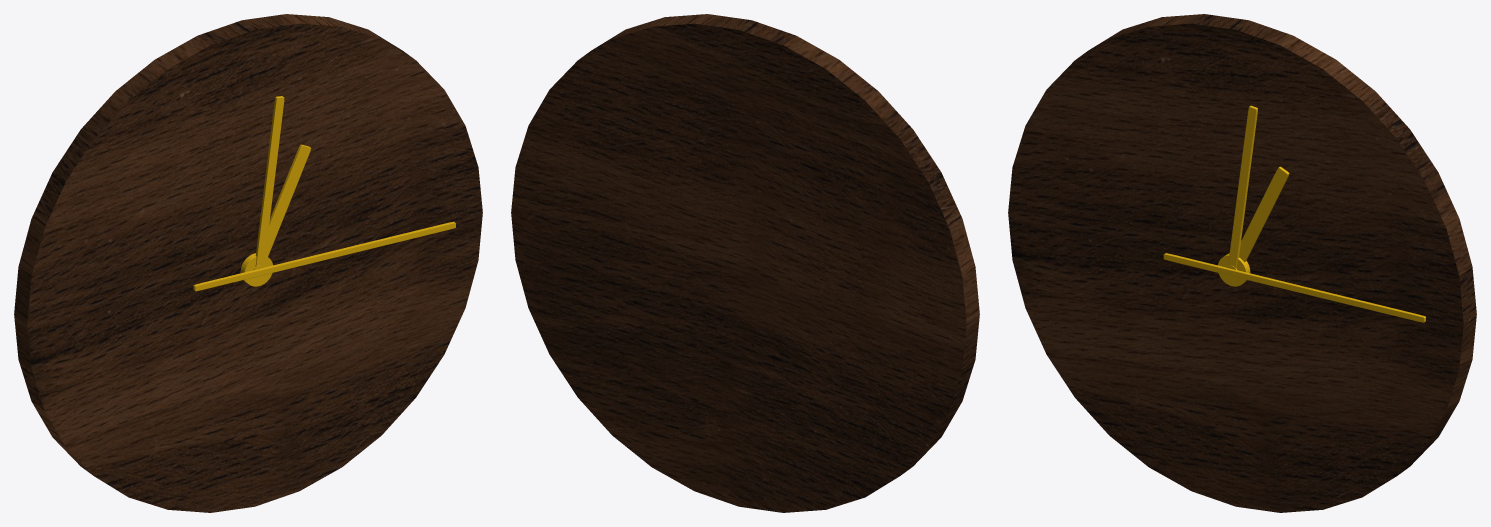
File: uploads_files_3168234_ClockV1.glb
3 renders of one model, left to right at view 1: azimuth 30°, elevation 25°; view 2: azimuth 150°, elevation 25°; view 3: azimuth 330°, elevation 25°, orthographic.
Visible parts, largest first — view 1: Circle034, Plane093, Plane095, Plane094; view 2: Circle034; view 3: Circle034, Plane093, Plane095, Plane094.
Part boxes in pixels (bbox=[...]): Circle034: bbox=[14, 14, 482, 512]; Plane093: bbox=[193, 221, 455, 291]; Plane095: bbox=[255, 96, 284, 266]; Plane094: bbox=[265, 144, 311, 256]; Circle034: bbox=[511, 14, 979, 512]; Circle034: bbox=[1008, 14, 1476, 512]; Plane093: bbox=[1163, 253, 1425, 322]; Plane095: bbox=[1228, 105, 1257, 268]; Plane094: bbox=[1239, 166, 1289, 262].
Bounding box in the file's own units: 0.625 × 0.625 × 0.0462.
2 materials, 2 textured.
